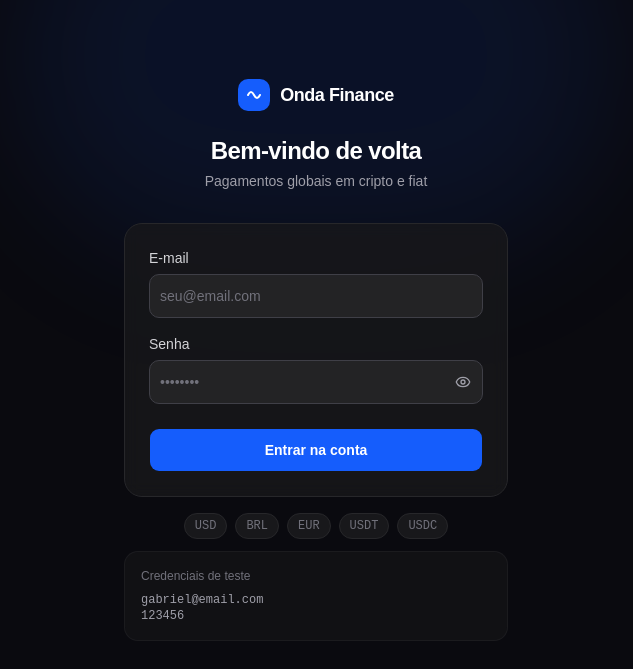
Login › exibe erro de validação com e-mail inválido
Type "nao-e-um-email" into the field labelled "E-mail" at (316, 296), box [149,274,483,318]
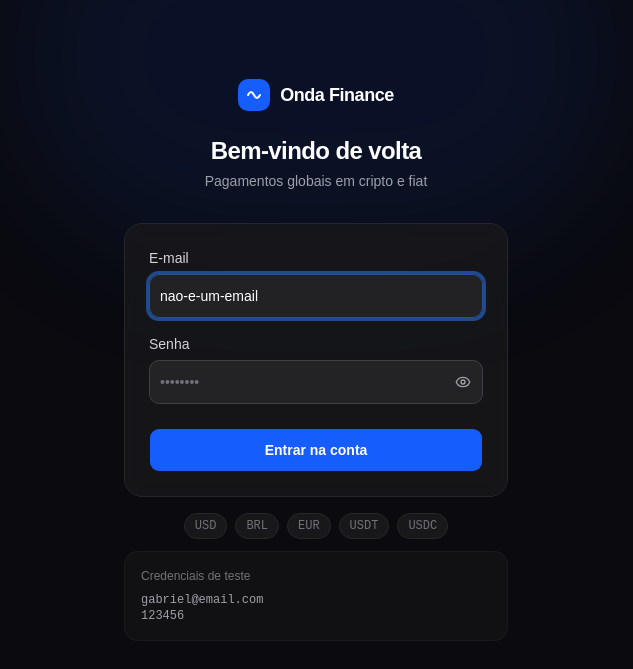
Type "123456" into the password field with placeholder "••••••••" at (316, 382), box [149,360,483,404]
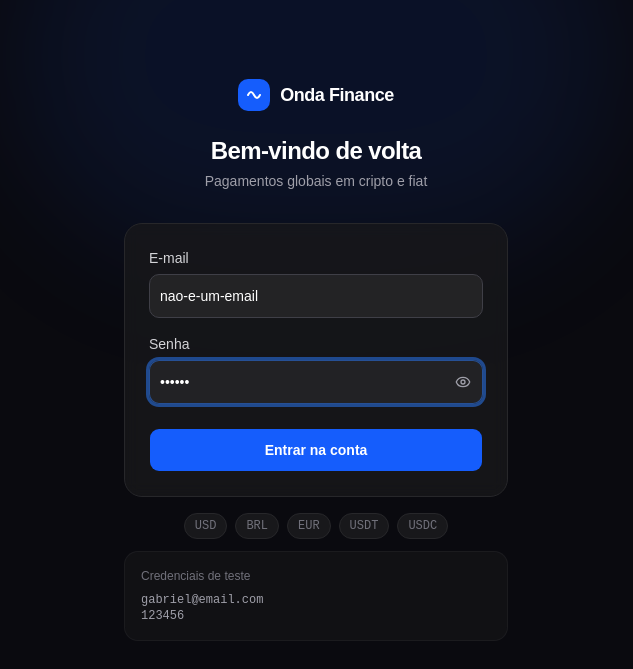
Click the button "Entrar na conta" at (316, 450), box [149,428,483,472]
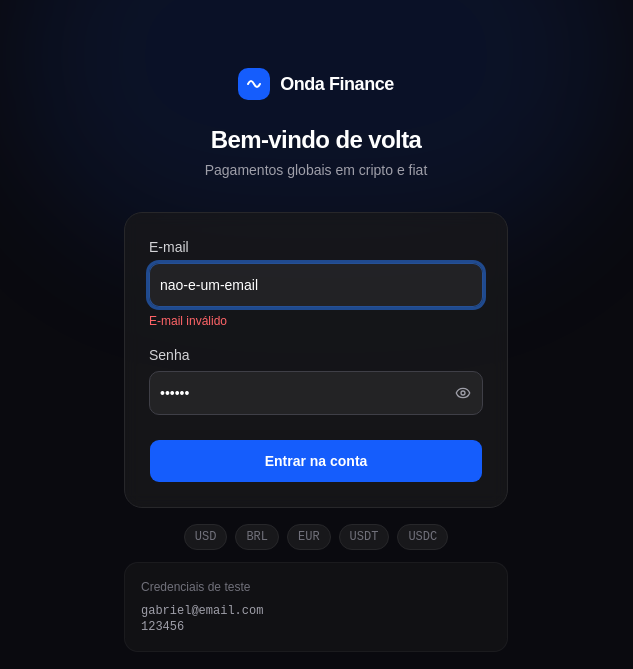
Result: the text "E-mail inválido" is shown at [149,314,227,328]
